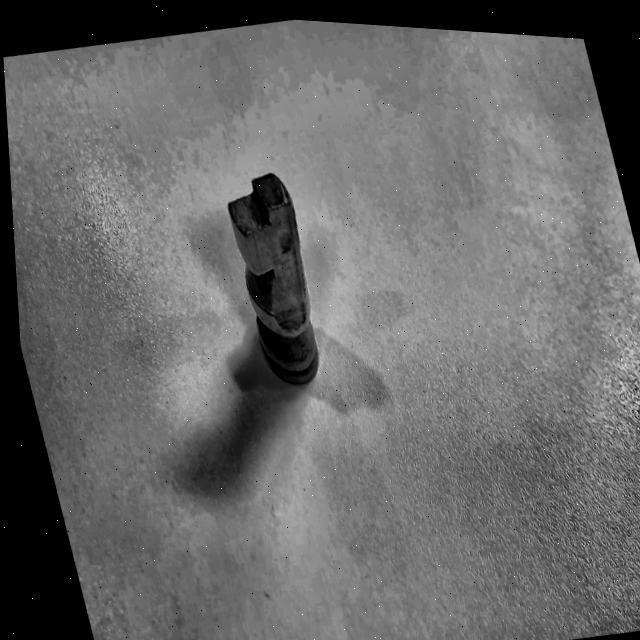black-knight: (201, 151, 355, 412)
